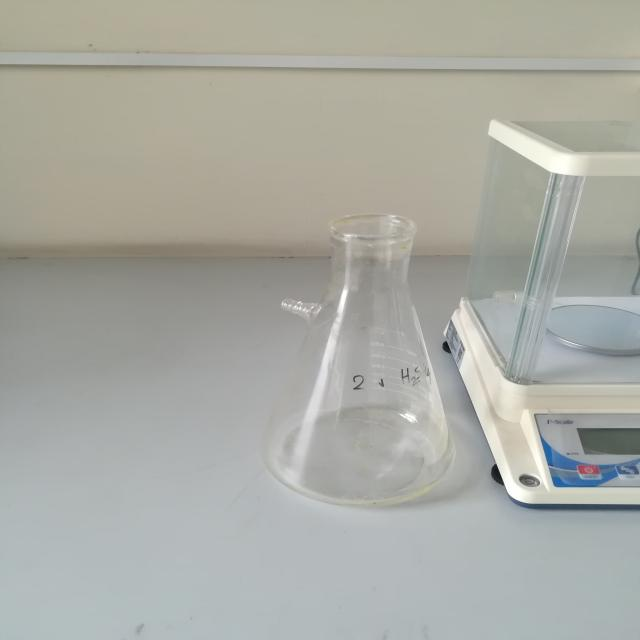Conical_Flask: (207, 168, 493, 542)
